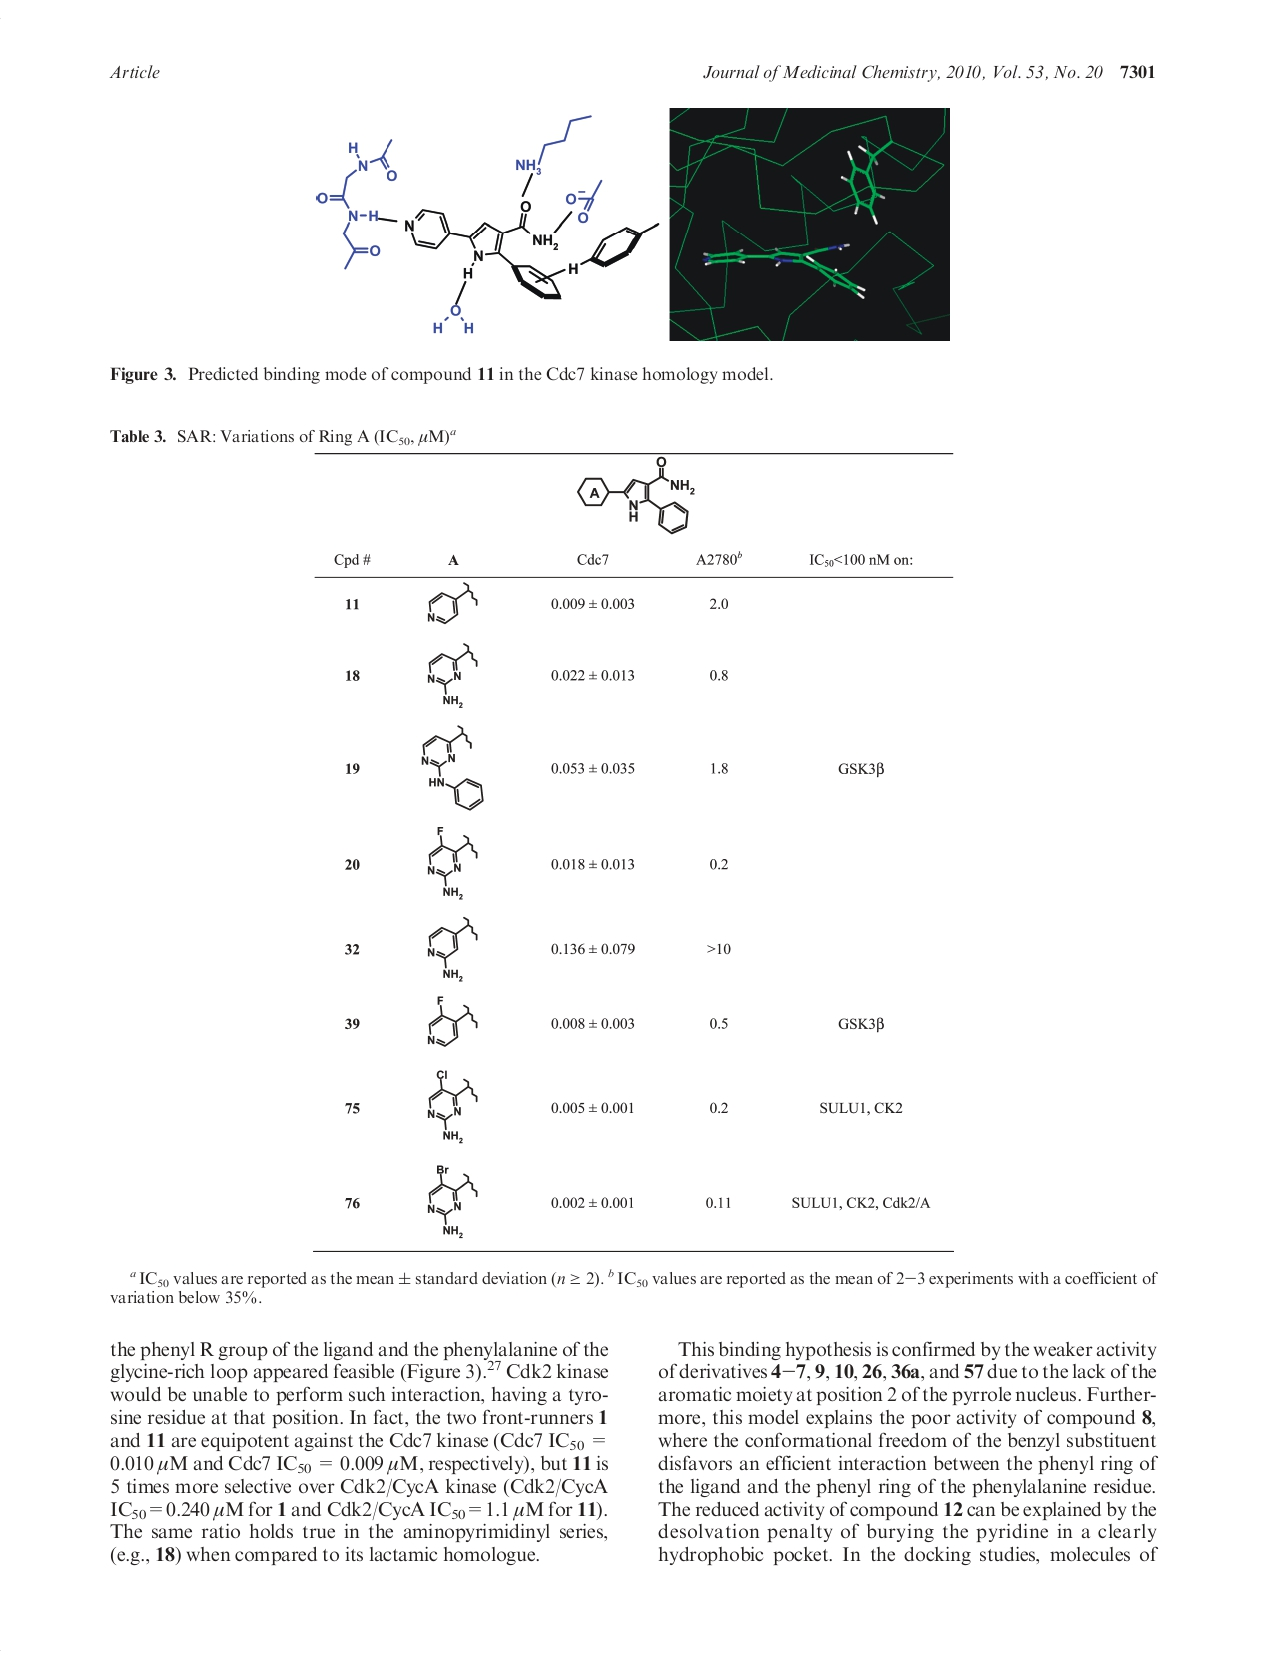exist_molecular: (313, 112, 662, 338), (574, 456, 697, 537), (420, 723, 487, 813), (426, 823, 481, 902), (426, 1164, 480, 1239), (427, 1067, 480, 1144), (422, 914, 479, 981), (426, 638, 479, 709), (426, 993, 479, 1049), (426, 581, 481, 626)
